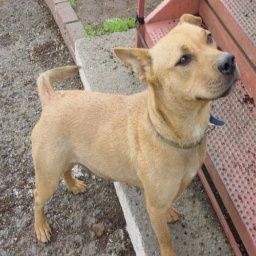dog: (22, 14, 239, 256)
